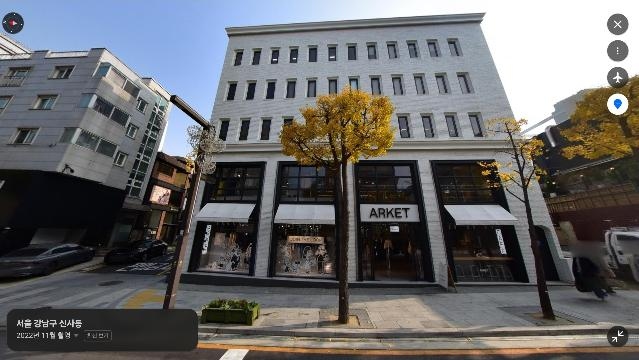ginkgo: (278, 82, 399, 325), (476, 116, 556, 321), (556, 75, 639, 162)
